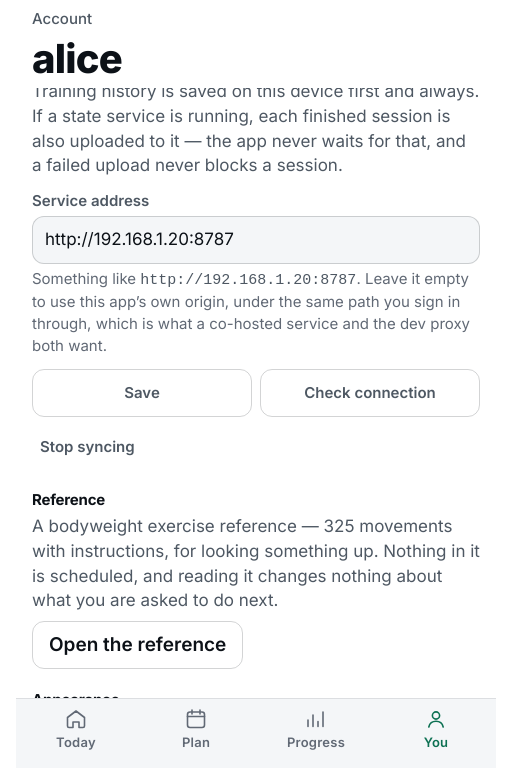
the connection check › states a conflict in both numbers and offers nothing that would resolve it
(page scrolled)
Click the button "Check connection": (370, 393) x1=260 y1=369 x2=480 y2=417
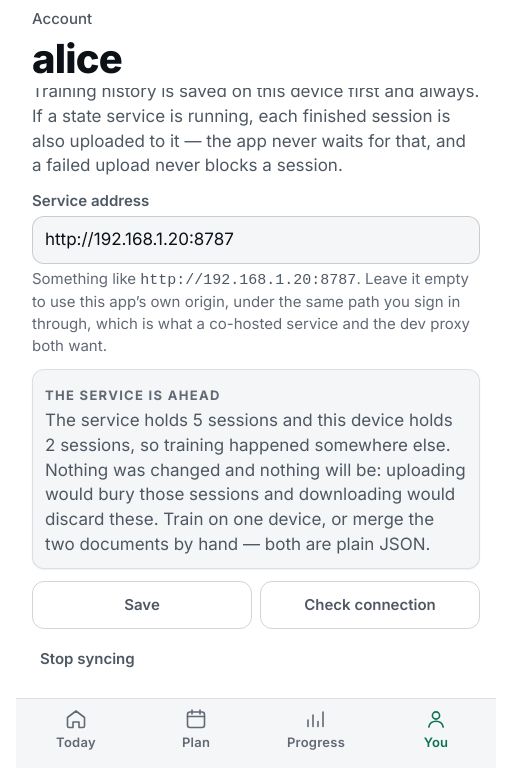
Expected: the element with test id "sync-status" shows "The service is ahead", x1=45 y1=387 x2=221 y2=403
Expected: the element with test id "sync-status" shows "5 sessions", x1=45 y1=410 x2=466 y2=554
Expected: the element with test id "sync-status" shows "2 sessions", x1=45 y1=410 x2=466 y2=554
